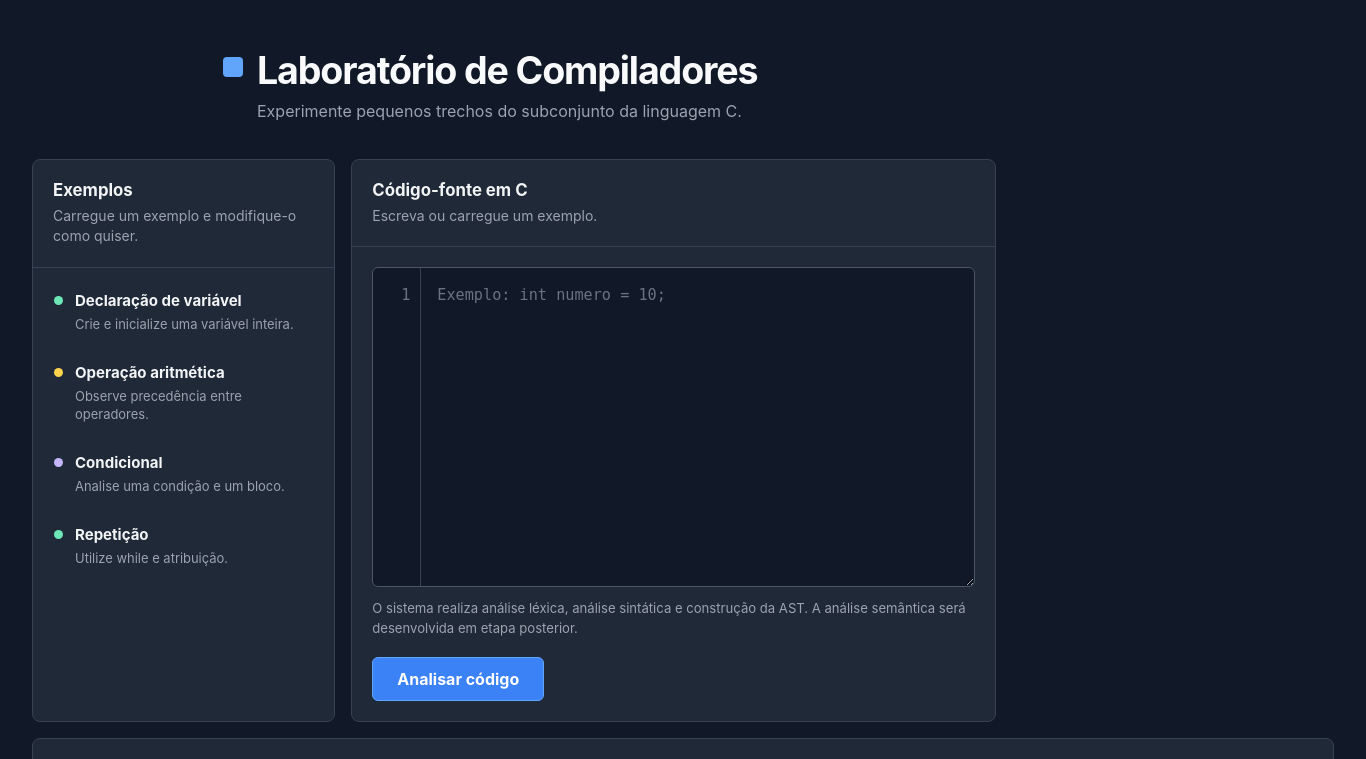
Test: App › apresenta mensagem quando não consegue acessar o servidor
This screenshot has width=1366, height=759.
In the text box named "Editor de código-fonte em C": (698, 427) [421,268,974,586], type "int numero = 10;"
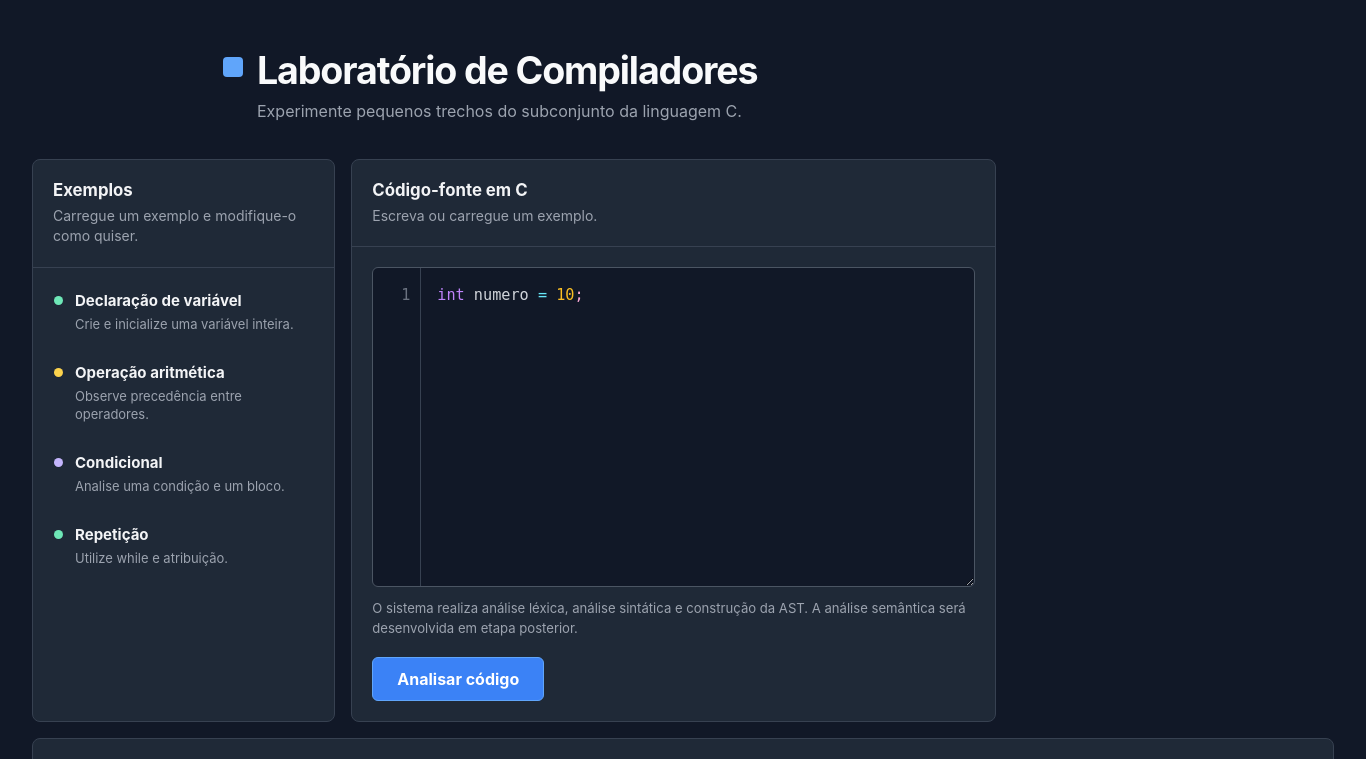
Click the button "Analisar código": (458, 679) [372,657,544,701]
(page scrolled)
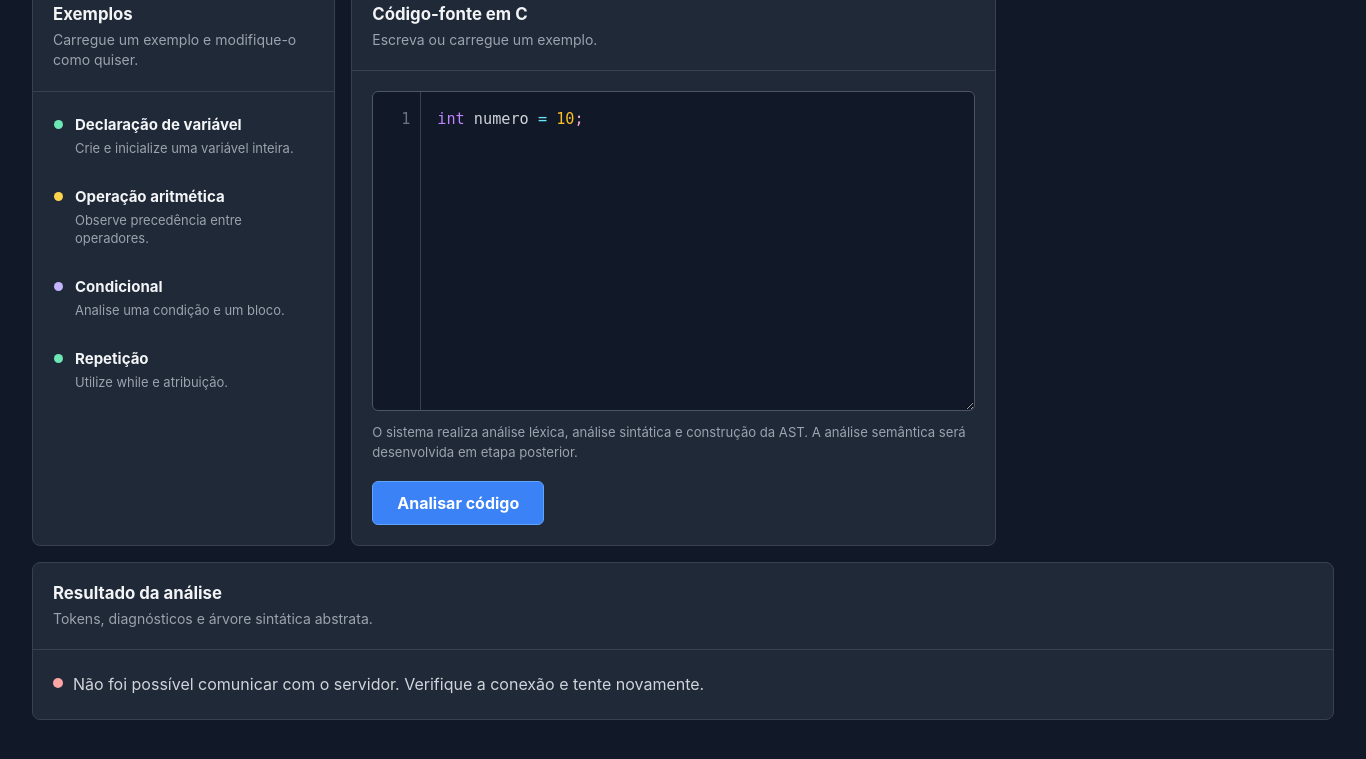
Expected: the text "Não foi possível comunicar com o servidor. Verifique a conexão e tente novamente." is shown, [73,674,704,694]
